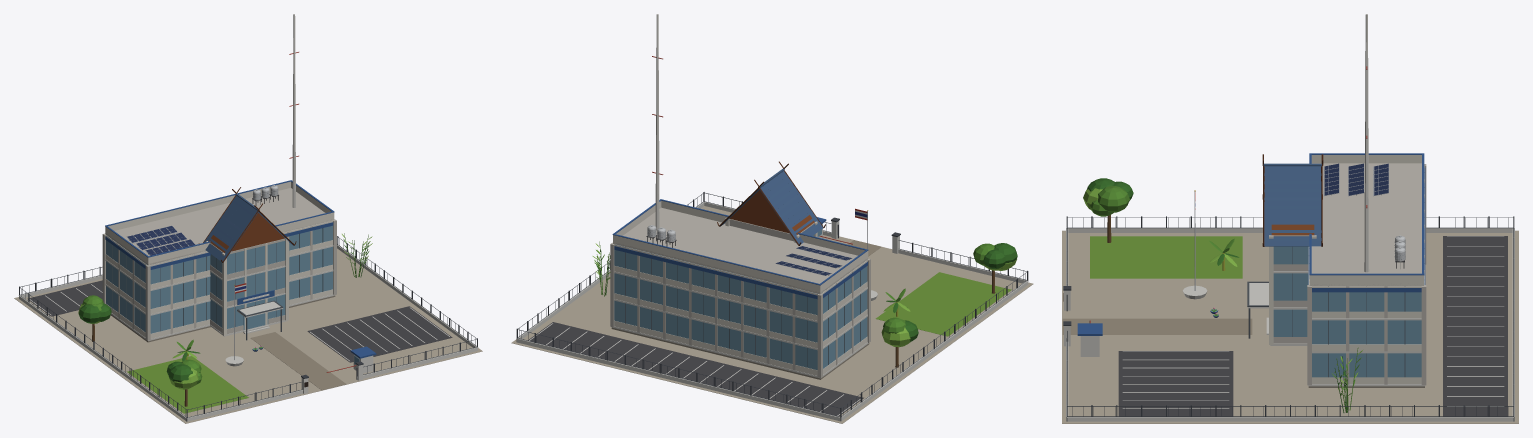
File: police.glb
The picture shows the model from 3 angles, left to right: view 1: azimuth 30°, elevation 25°; view 2: azimuth 150°, elevation 25°; view 3: azimuth 270°, elevation 25°; orthographic projection. The views are drawn at different scales.
Parts seen in each view (by area): view 1: body; view 2: body; view 3: body.
Boxes of the visible parts, x1,y1,x2,y2 form: body: (14, 14, 482, 423); body: (511, 14, 1033, 423); body: (1062, 14, 1518, 423).
Size of the model in its own units: 47.9 by 41.84 by 47.9.
